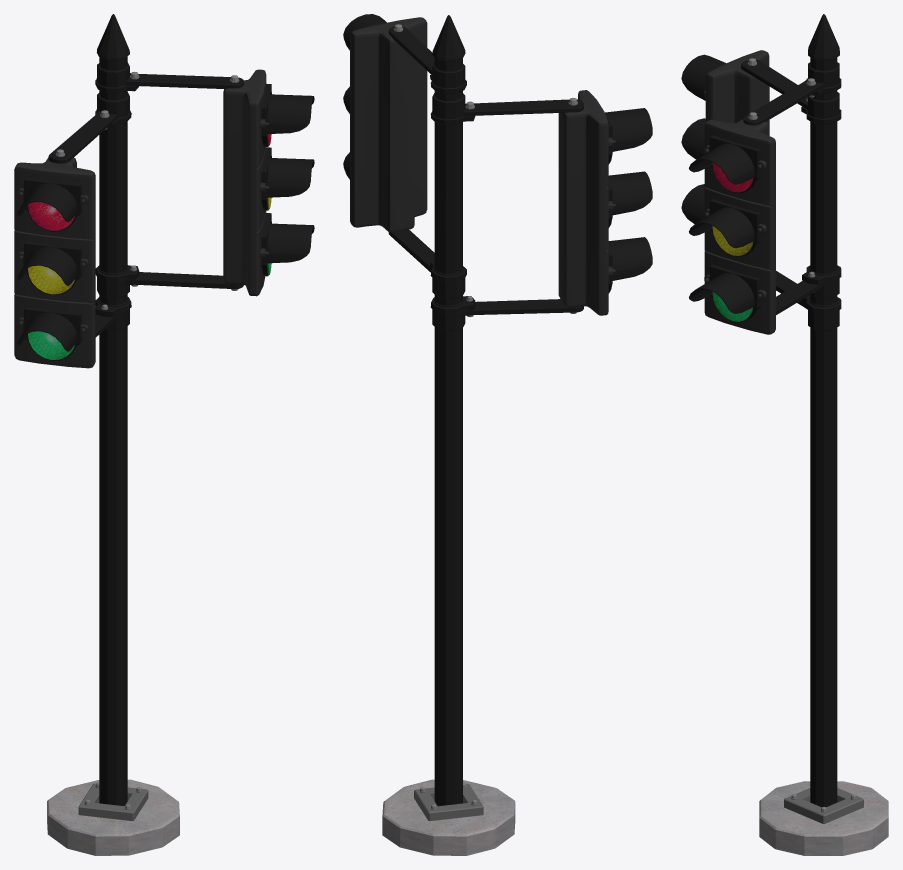
The picture shows the model from 3 angles, left to right: view 1: azimuth 30°, elevation 25°; view 2: azimuth 150°, elevation 25°; view 3: azimuth 270°, elevation 25°; orthographic projection.
Visible parts, largest first — view 1: traffic_lights_all_combined_uvs_mesh_combine_result_trafficl (×4); view 2: traffic_lights_all_combined_uvs_mesh_combine_result_trafficl (×4); view 3: traffic_lights_all_combined_uvs_mesh_combine_result_trafficl (×4).
Part boxes in pixels (x1=…): traffic_lights_all_combined_uvs_mesh_combine_result_trafficl (×4): x1=14, y1=14, x2=314, y2=855; traffic_lights_all_combined_uvs_mesh_combine_result_trafficl (×4): x1=343, y1=14, x2=652, y2=855; traffic_lights_all_combined_uvs_mesh_combine_result_trafficl (×4): x1=681, y1=14, x2=888, y2=855.
Size of the model in its own units: 6.1 by 15.65 by 3.61.
Materials: 5 (3 with a texture image).
